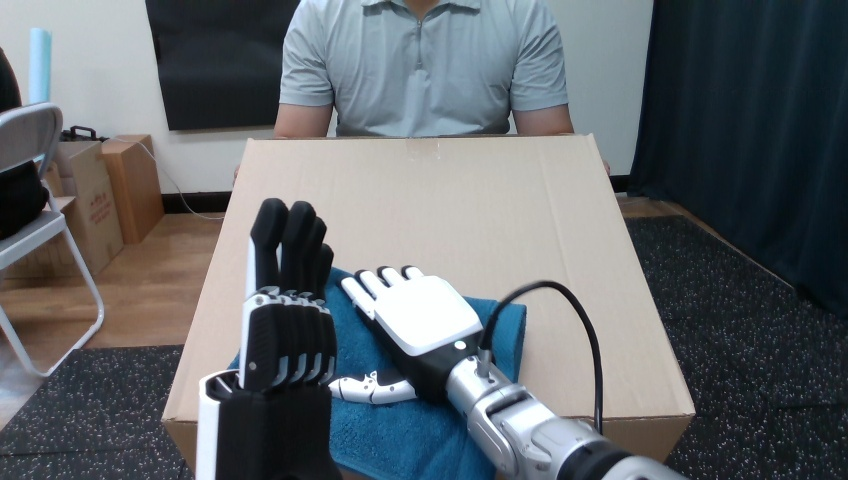left robot hand: (329, 266, 684, 479), (195, 198, 340, 479), (490, 286, 596, 428)
